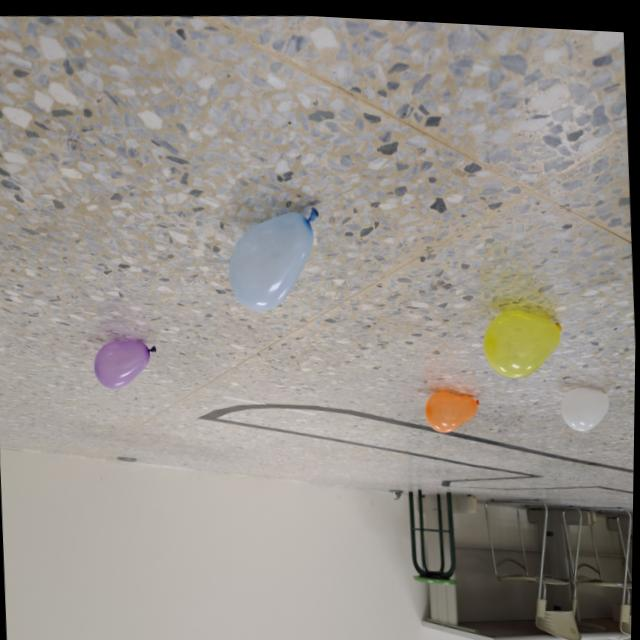other: (224, 198, 327, 315), (482, 300, 567, 378), (93, 333, 159, 390), (425, 382, 485, 432), (559, 378, 613, 429)
